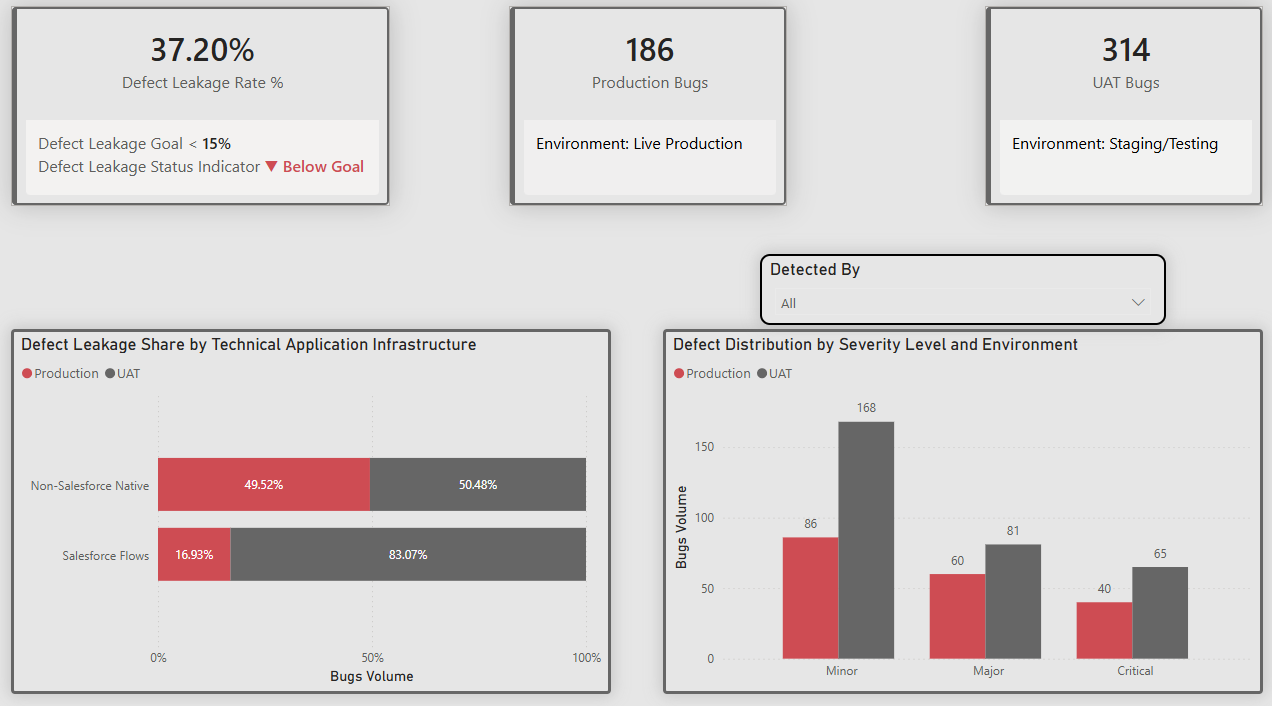

Layout of this report page (visuals, bound fields, positions):
{"tool":"powerbi","page":{"name":"Software Release Quality & Defect Leakage","canvas":[1280,720],"ordinal":2},"visuals":[{"type":"group","id":"g1","title":"Group 1","box":[14,8,1252,200],"z":0},{"type":"cardVisual","fields":{"Data":["_Measures.Defect Leakage Rate %"]},"box":[14,8,378.6,200],"z":0,"group":"g1"},{"type":"cardVisual","fields":{"Data":["_Measures.Production Bugs"]},"box":[511.6,8,278.2,200],"z":1000,"group":"g1"},{"type":"hundredPercentStackedBarChart","title":"Defect Leakage Share by Technical Application Infrastructure","fields":{"Category":["fact_qa_bugs.Application_Platform"],"Y":["CountNonNull(fact_qa_bugs.Bug_ID)"],"Series":["fact_qa_bugs.Environment"]},"box":[14,331,600,365],"z":1000},{"type":"cardVisual","fields":{"Data":["_Measures.UAT Bugs"]},"box":[987.8,8,278.2,200],"z":2000,"group":"g1"},{"type":"clusteredColumnChart","title":"Defect Distribution by Severity Level and Environment","fields":{"Category":["fact_qa_bugs.Severity"],"Y":["CountNonNull(fact_qa_bugs.Bug_ID)"],"Series":["fact_qa_bugs.Environment"]},"box":[666,331,600,365],"z":2000},{"type":"slicer","title":"Detected By","fields":{"Values":["fact_qa_bugs.Detected_By"]},"box":[762.6,256.3,406.1,70.9],"z":3000}]}

Visuals, with their boxes in screenshot pixels (x1, y1, x2, y2), scaled from the page's 1280x720 canvas onto the 1272x706 screenshot:
"Group 1" group: x1=14 y1=8 x2=1258 y2=204
cardVisual - _Measures.Defect Leakage Rate %: x1=14 y1=8 x2=390 y2=204
cardVisual - _Measures.Production Bugs: x1=508 y1=8 x2=785 y2=204
"Defect Leakage Share by Technical Application Infrastructure" hundredPercentStackedBarChart: x1=14 y1=325 x2=610 y2=682
cardVisual - _Measures.UAT Bugs: x1=982 y1=8 x2=1258 y2=204
"Defect Distribution by Severity Level and Environment" clusteredColumnChart: x1=662 y1=325 x2=1258 y2=682
"Detected By" slicer: x1=758 y1=251 x2=1161 y2=321
